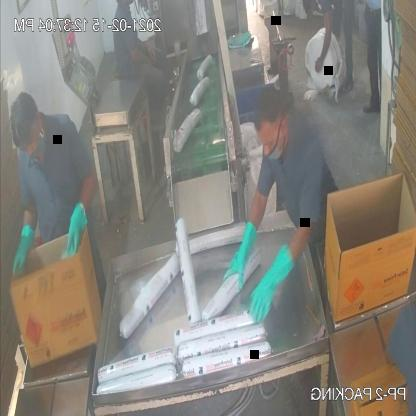glove: (248, 234, 305, 328), (223, 211, 266, 292), (59, 198, 92, 254), (9, 223, 34, 278)
no_glove: (308, 12, 338, 80), (128, 30, 165, 74)
